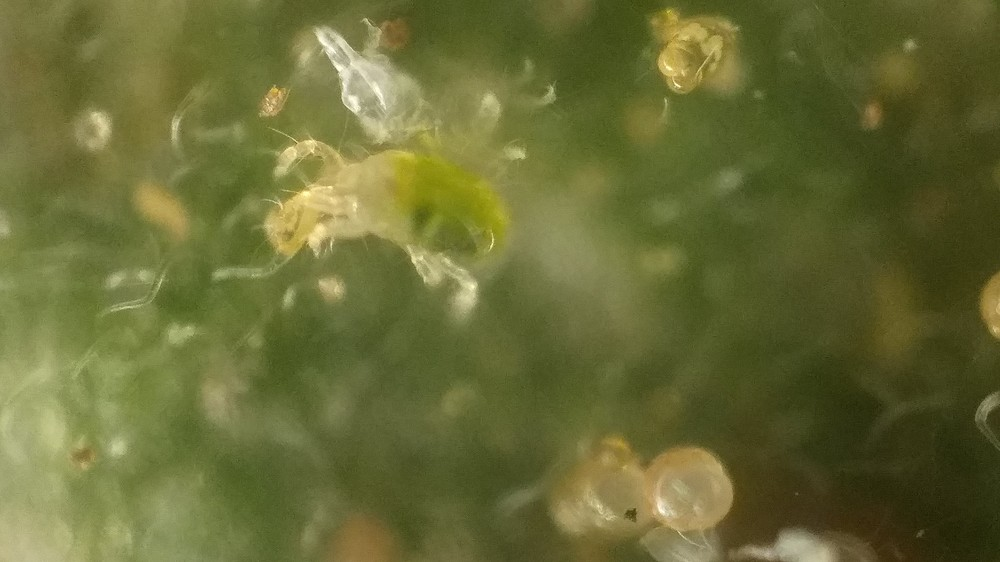Aracnido Rojo: (265, 117, 530, 325)
